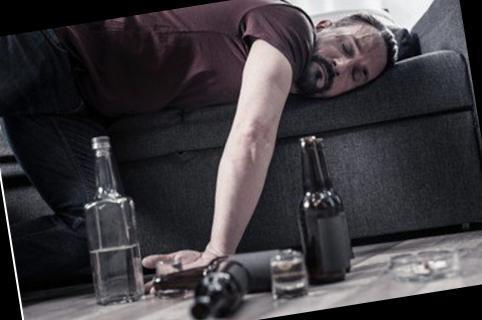Drunk: (309, 34, 389, 87)
